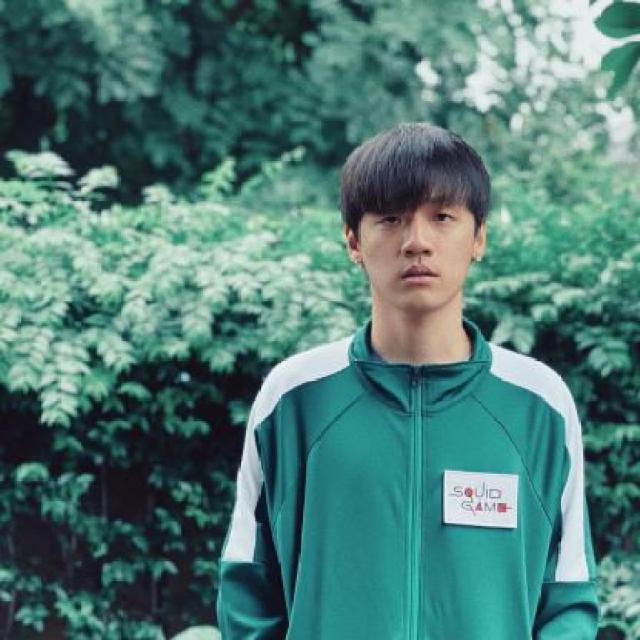sem_oculos: (338, 197, 488, 243)
